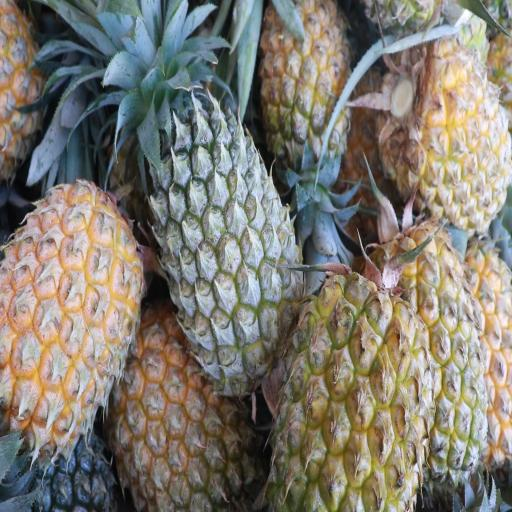------------------------------: (258, 0, 358, 163)
Pineapple - v8 v1: (281, 280, 428, 512), (0, 185, 134, 437), (120, 308, 255, 512), (378, 236, 487, 465), (389, 58, 512, 220)
